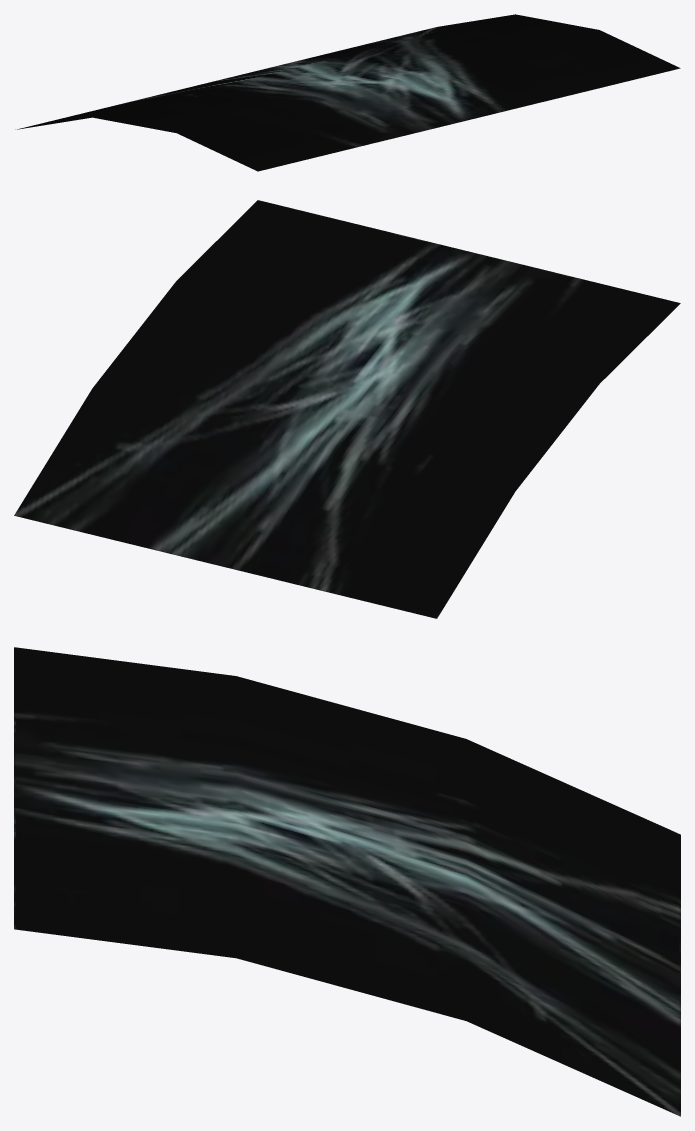
3 renders of one model, top to bottom at view 1: azimuth 30°, elevation 25°; view 2: azimuth 150°, elevation 25°; view 3: azimuth 270°, elevation 25°, orthographic. The views are drawn at different scales.
Visible parts, largest first — view 1: model_Object63; view 2: model_Object63; view 3: model_Object63.
Boxes of the visible parts, <box> form: model_Object63: <box>15,14,680,171</box>; model_Object63: <box>14,200,680,618</box>; model_Object63: <box>14,647,680,1116</box>.
Size of the model in its own units: 1.28 by 0.397 by 1.28.
1 material, 1 textured.
